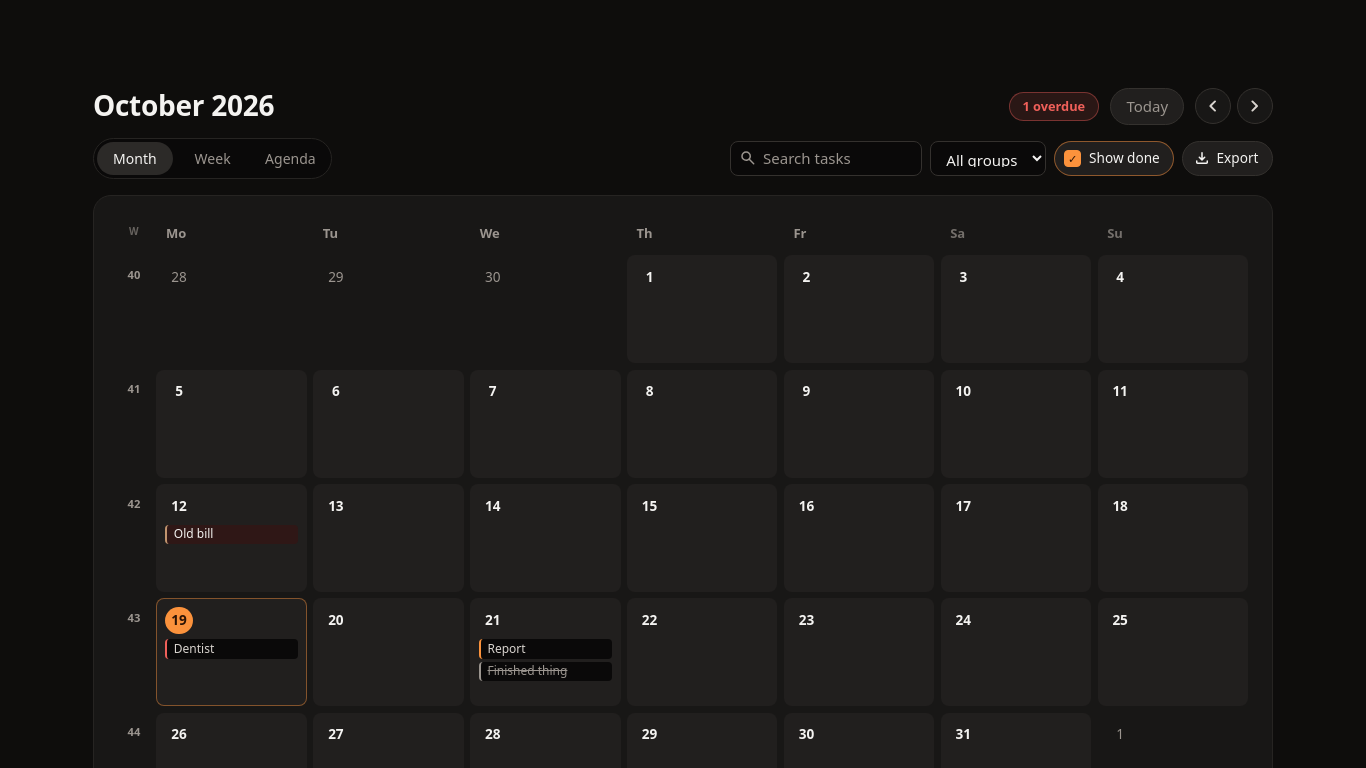
Test: month view › filters by group
Select "Health" in the dropdown named "Filter by group" at (988, 158), box left=930, top=141, right=1046, bottom=176
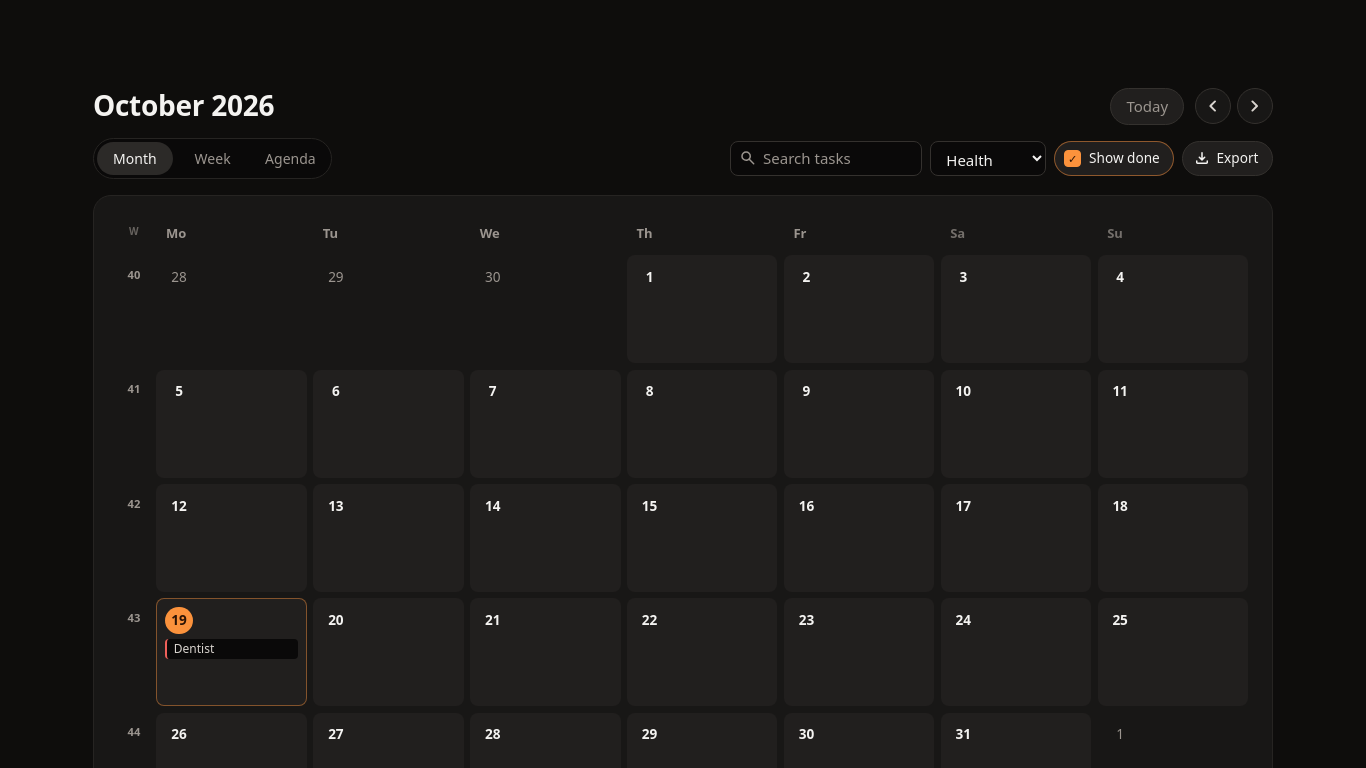
Expected: the text "Dentist" is shown, left=174, top=640, right=214, bottom=657
Now the button "Report" is gone
